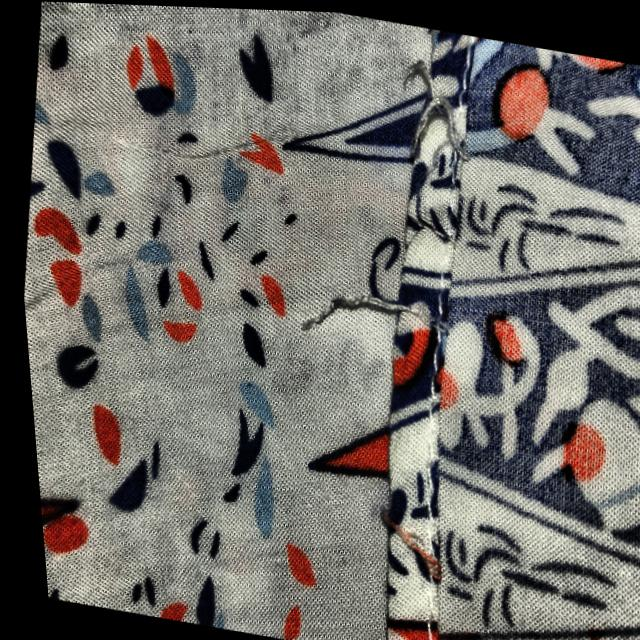Stitch: (231, 208, 525, 422), (288, 25, 587, 210), (316, 438, 502, 625)
